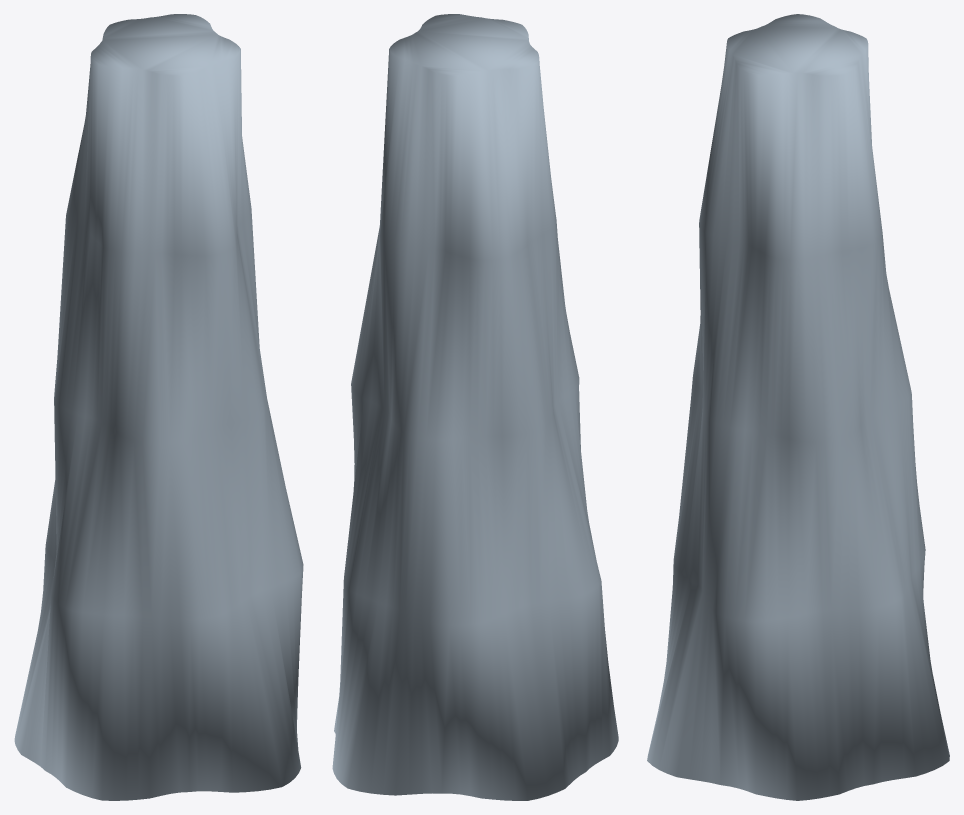
The model's file is SM64_CoastalSpire.fbx.
3 renders of one model, left to right at view 1: azimuth 30°, elevation 25°; view 2: azimuth 150°, elevation 25°; view 3: azimuth 270°, elevation 25°, orthographic.
Visible parts, largest first — view 1: JRB_CoastalSpire; view 2: JRB_CoastalSpire; view 3: JRB_CoastalSpire.
Part boxes in pixels (x1,y1,x2,y2): JRB_CoastalSpire: (14, 14, 303, 800); JRB_CoastalSpire: (332, 14, 618, 800); JRB_CoastalSpire: (647, 14, 949, 800).
Size of the model in its own units: 4.43 by 12 by 4.76.
